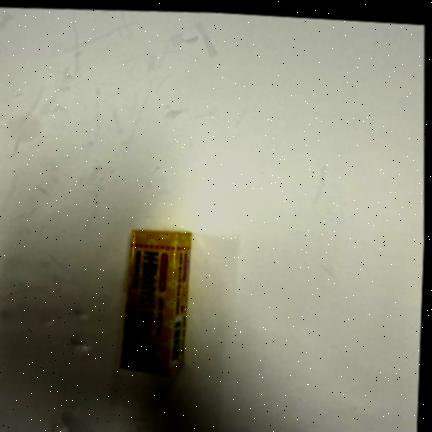gum_yellow: (117, 229, 191, 377)
